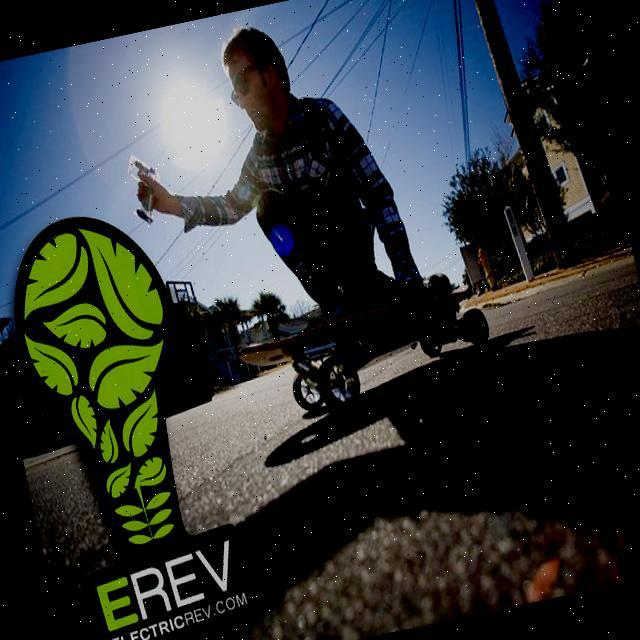fire_hydrant: (474, 245, 498, 292)
